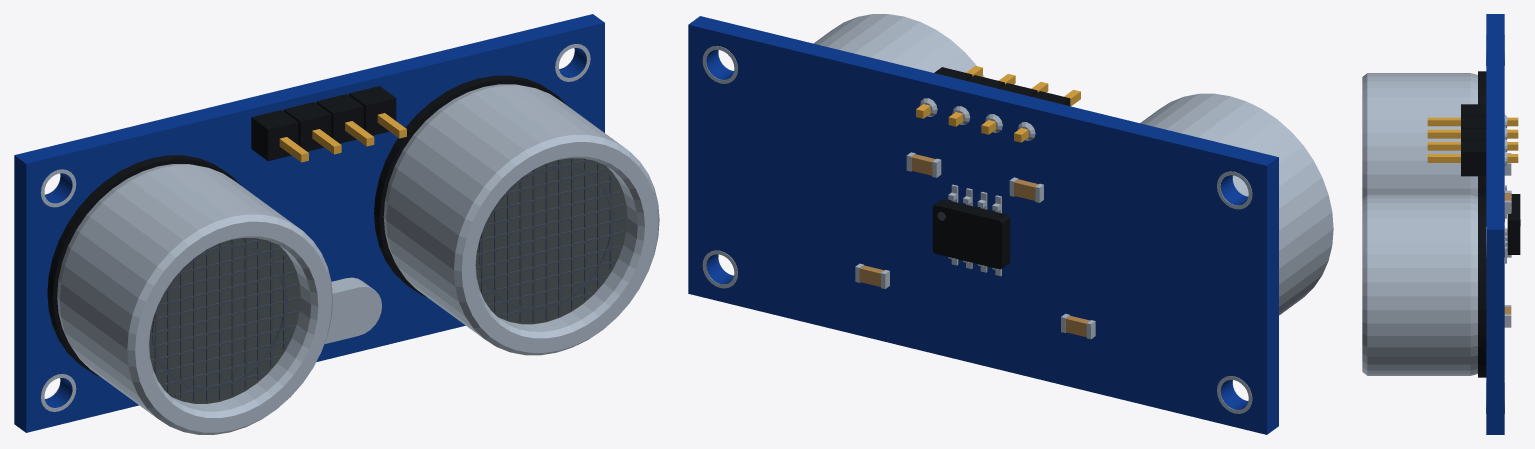
The model's file is ultrasonic_distance_sensor.obj.
3 views of the same model, side by side, from view 1: azimuth 30°, elevation 25°; view 2: azimuth 150°, elevation 25°; view 3: azimuth 270°, elevation 25° (orthographic). The views are drawn at different scales.
Parts seen in each view (by area): view 1: ultrasonic_distance_sensor; view 2: ultrasonic_distance_sensor; view 3: ultrasonic_distance_sensor.
Part boxes in pixels (bbox=[...]): ultrasonic_distance_sensor: bbox=[14, 14, 659, 434]; ultrasonic_distance_sensor: bbox=[688, 14, 1333, 434]; ultrasonic_distance_sensor: bbox=[1362, 14, 1520, 434].
Bounding box in the file's own units: 2 × 0.8889 × 0.6204.
